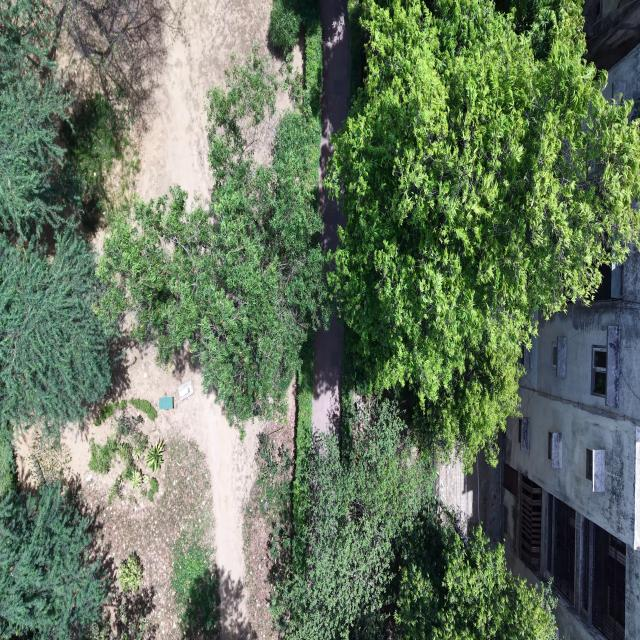DRY_AREA: (62, 344, 294, 639), (63, 344, 277, 639), (63, 346, 265, 639), (163, 373, 270, 638), (136, 0, 270, 202), (245, 387, 295, 638), (320, 0, 350, 250)
VEGETATION_TREE: (0, 0, 639, 639), (328, 0, 639, 466), (0, 0, 167, 638), (258, 310, 555, 639), (98, 52, 327, 421), (259, 398, 556, 639), (0, 0, 110, 638), (0, 0, 110, 436), (272, 400, 432, 639), (0, 0, 182, 187), (0, 0, 128, 238), (91, 440, 220, 639), (221, 102, 323, 343), (0, 230, 110, 434), (0, 429, 106, 639), (393, 504, 557, 639), (0, 0, 70, 237), (257, 335, 313, 630), (0, 484, 106, 638), (57, 0, 183, 117), (256, 334, 313, 586), (168, 442, 222, 637), (60, 93, 137, 227), (207, 46, 278, 184), (244, 432, 304, 585), (269, 0, 322, 118), (89, 414, 158, 503), (269, 0, 322, 102), (291, 337, 314, 571), (171, 528, 220, 637), (254, 433, 293, 529), (88, 594, 154, 639), (27, 428, 71, 488), (303, 0, 323, 127), (347, 0, 364, 104), (269, 0, 300, 53), (89, 432, 122, 474), (0, 423, 15, 500), (118, 553, 142, 591), (94, 400, 127, 426), (94, 400, 126, 426), (146, 440, 165, 472), (130, 399, 157, 421), (129, 468, 143, 489), (147, 477, 159, 501)
